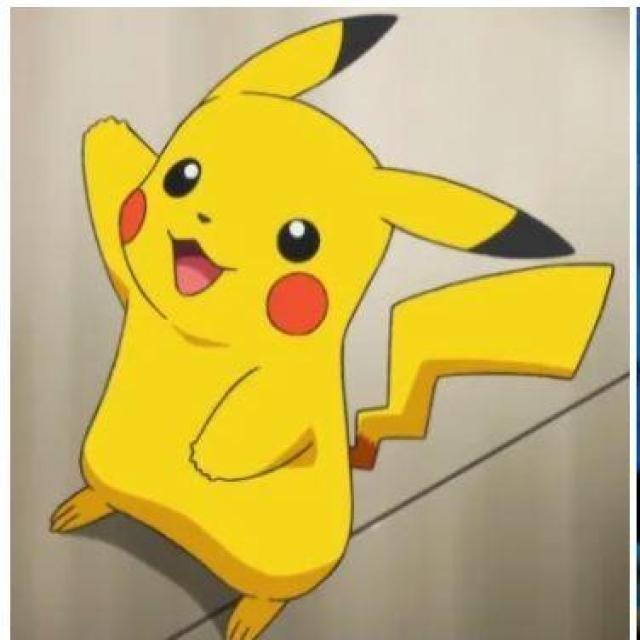pikachu: (49, 14, 613, 640)
